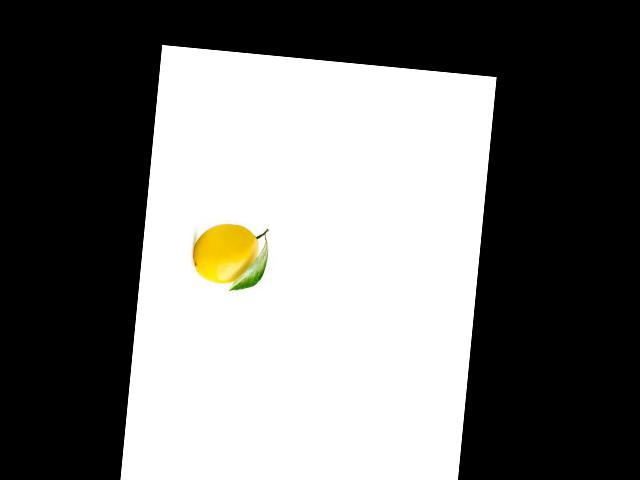lemon: (185, 216, 266, 290)
